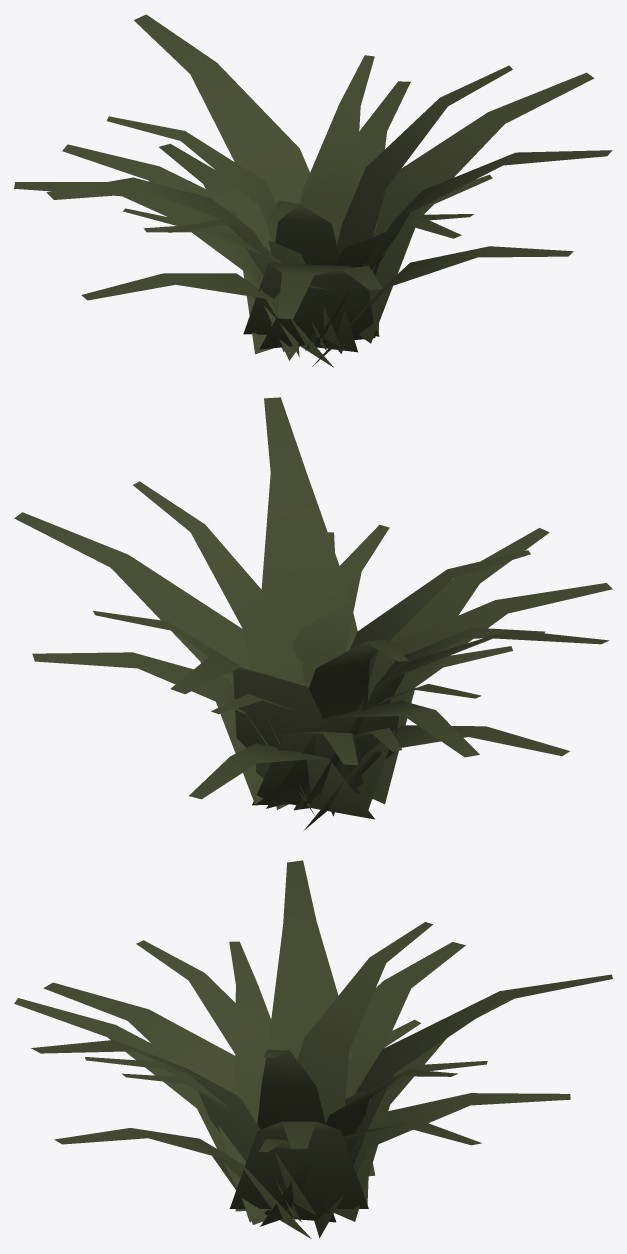
The model's file is Asset_Grass1.fbx.
The picture shows the model from 3 angles, top to bottom: view 1: azimuth 30°, elevation 25°; view 2: azimuth 150°, elevation 25°; view 3: azimuth 270°, elevation 25°; orthographic projection. The views are drawn at different scales.
Visible parts, largest first — view 1: Plane.024; view 2: Plane.024; view 3: Plane.024.
Boxes of the visible parts, bbox=[...] form: Plane.024: bbox=[14, 14, 612, 367]; Plane.024: bbox=[14, 397, 612, 830]; Plane.024: bbox=[14, 860, 612, 1238].
Size of the model in its own units: 850 by 363 by 786.
